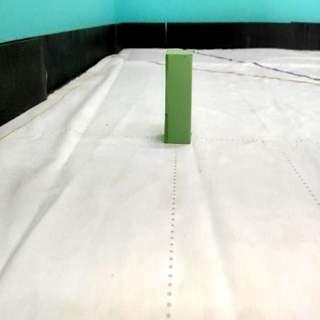greenbox: (164, 48, 193, 144)
